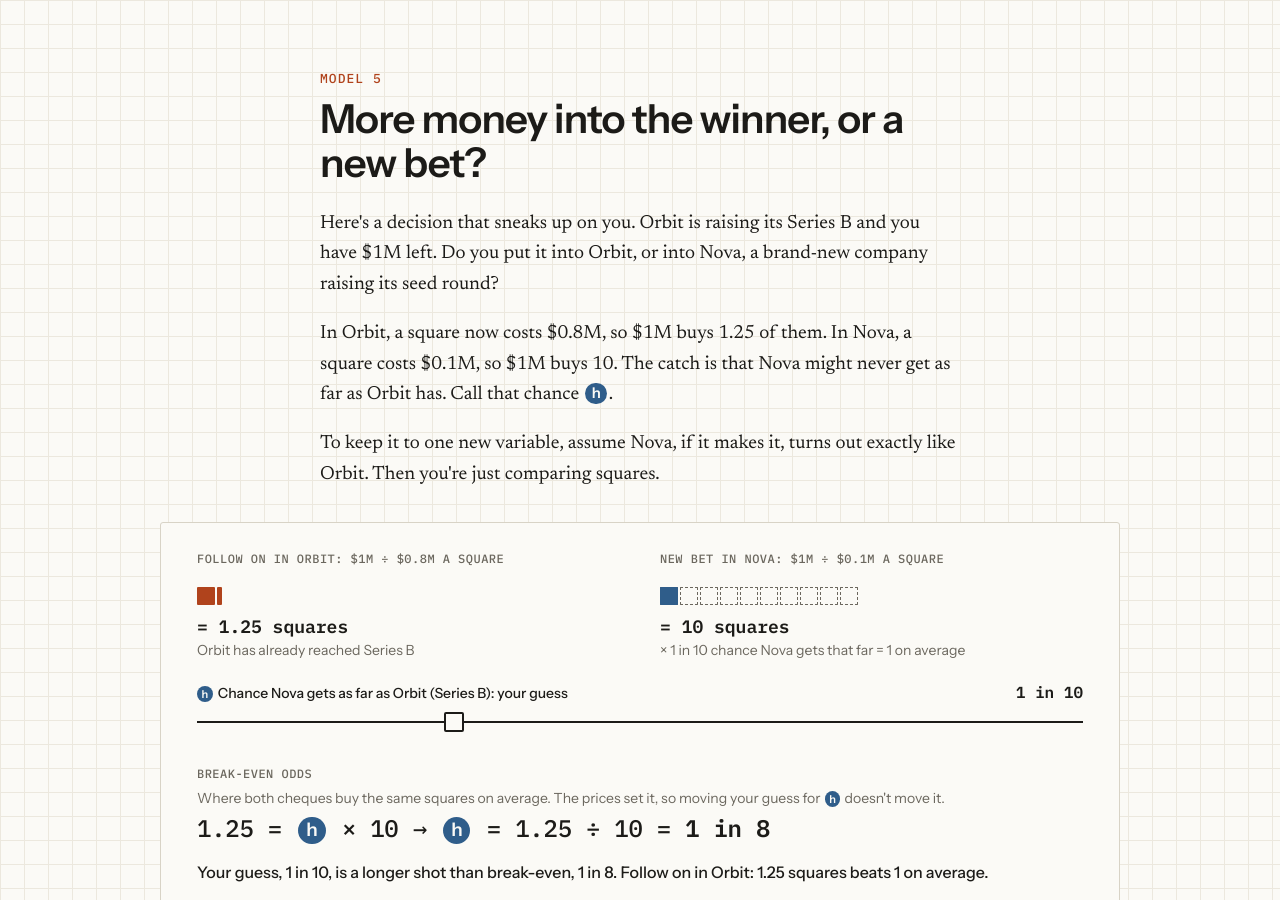
Model 5: follow on, or a new bet › follows on when fresh bets are long shots
Set the slider labelled "h Chance Nova gets as far as Orbit (Series B): your guess" to "1" at point(329, 722), box [197,708,1083,736]
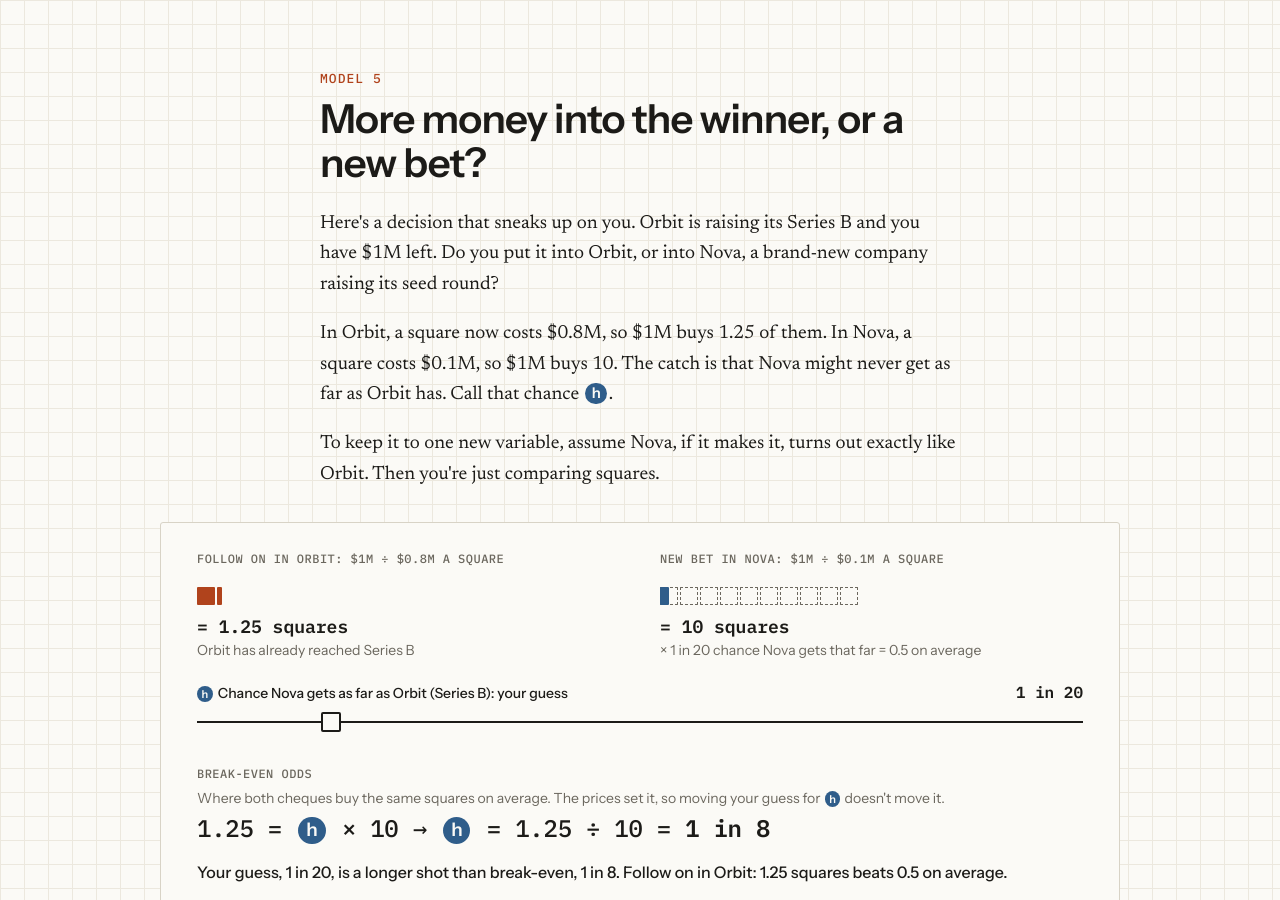
Check: the text with test id "m5-verdict" shows "Follow on", box [197,862,1008,882]
Set the slider labelled "h Chance Nova gets as far as Orbit (Series B): your guess" to "5" at point(826, 722), box [197,708,1083,736]
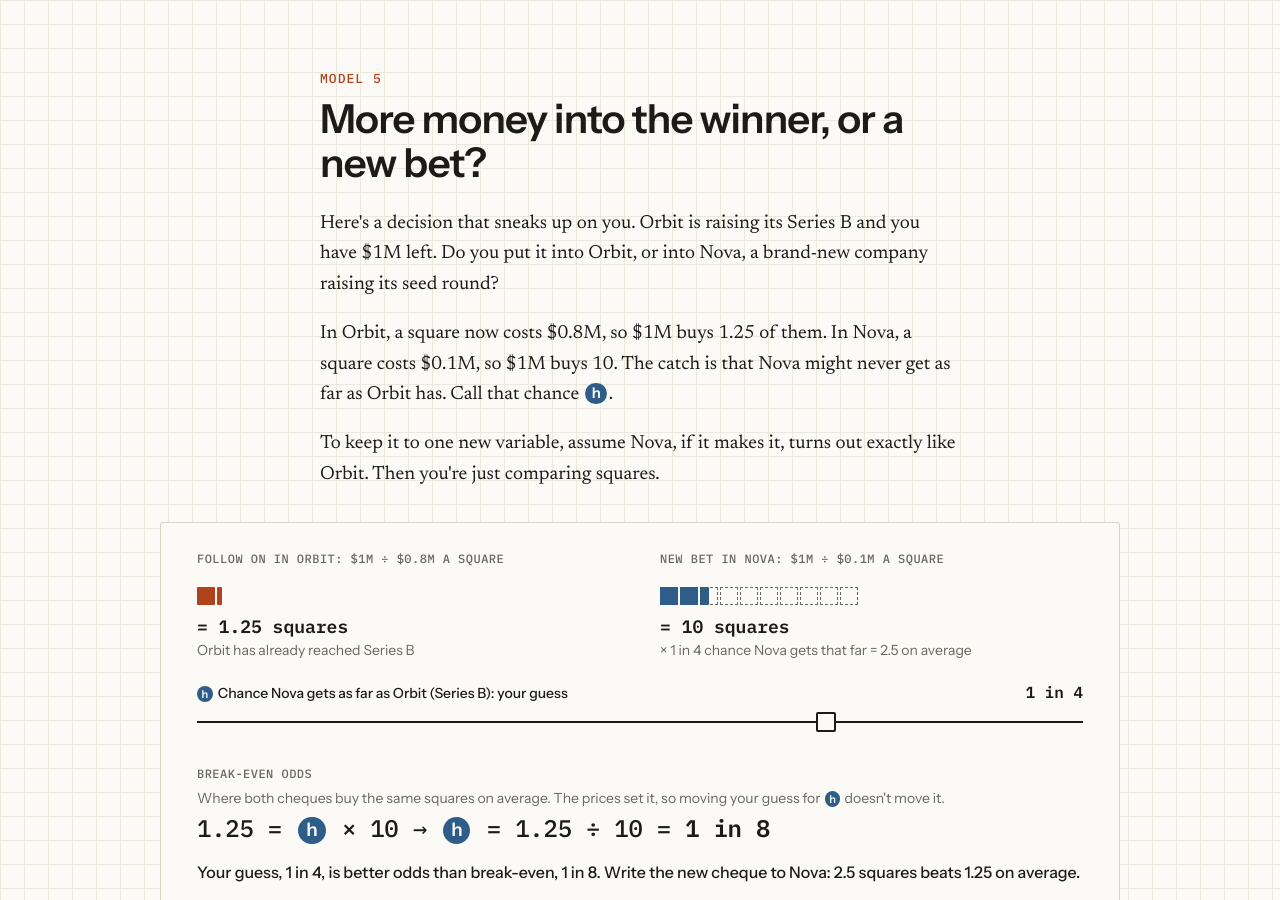
Check: the text with test id "m5-verdict" shows "new cheque", box [197,862,1080,882]
